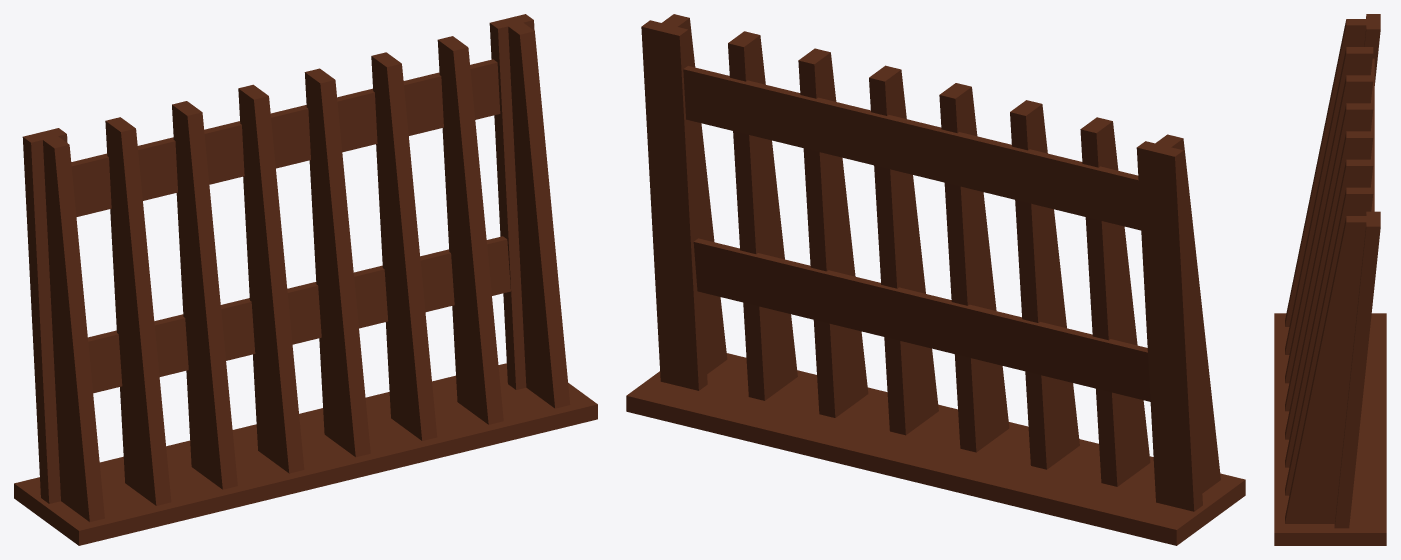
The model's file is prop_rack_foe_weapons.glb.
3 views of the same model, side by side, from view 1: azimuth 30°, elevation 25°; view 2: azimuth 150°, elevation 25°; view 3: azimuth 270°, elevation 25° (orthographic). The views are drawn at different scales.
Visible parts, largest first — view 1: Props with out snow_Rack foe weapons_0; view 2: Props with out snow_Rack foe weapons_0; view 3: Props with out snow_Rack foe weapons_0.
Part boxes in pixels (left/top/right/bottom): Props with out snow_Rack foe weapons_0: left=14, top=14, right=597, bottom=545; Props with out snow_Rack foe weapons_0: left=626, top=14, right=1245, bottom=545; Props with out snow_Rack foe weapons_0: left=1274, top=14, right=1386, bottom=545.
Bounding box in the file's own units: 4.95 × 3.31 × 1.07.
